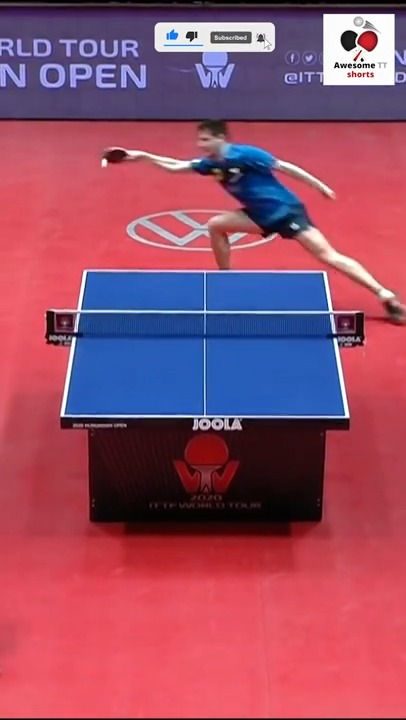Ball: (101, 154, 109, 169)
